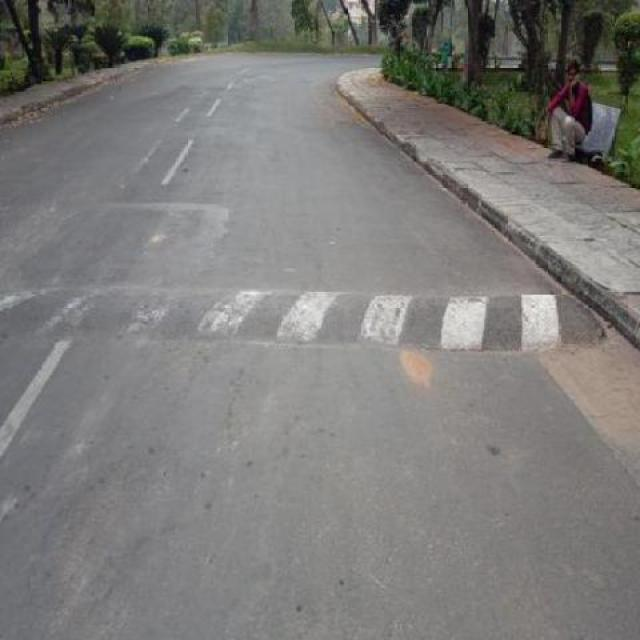Speed Bump: (0, 290, 609, 360)
